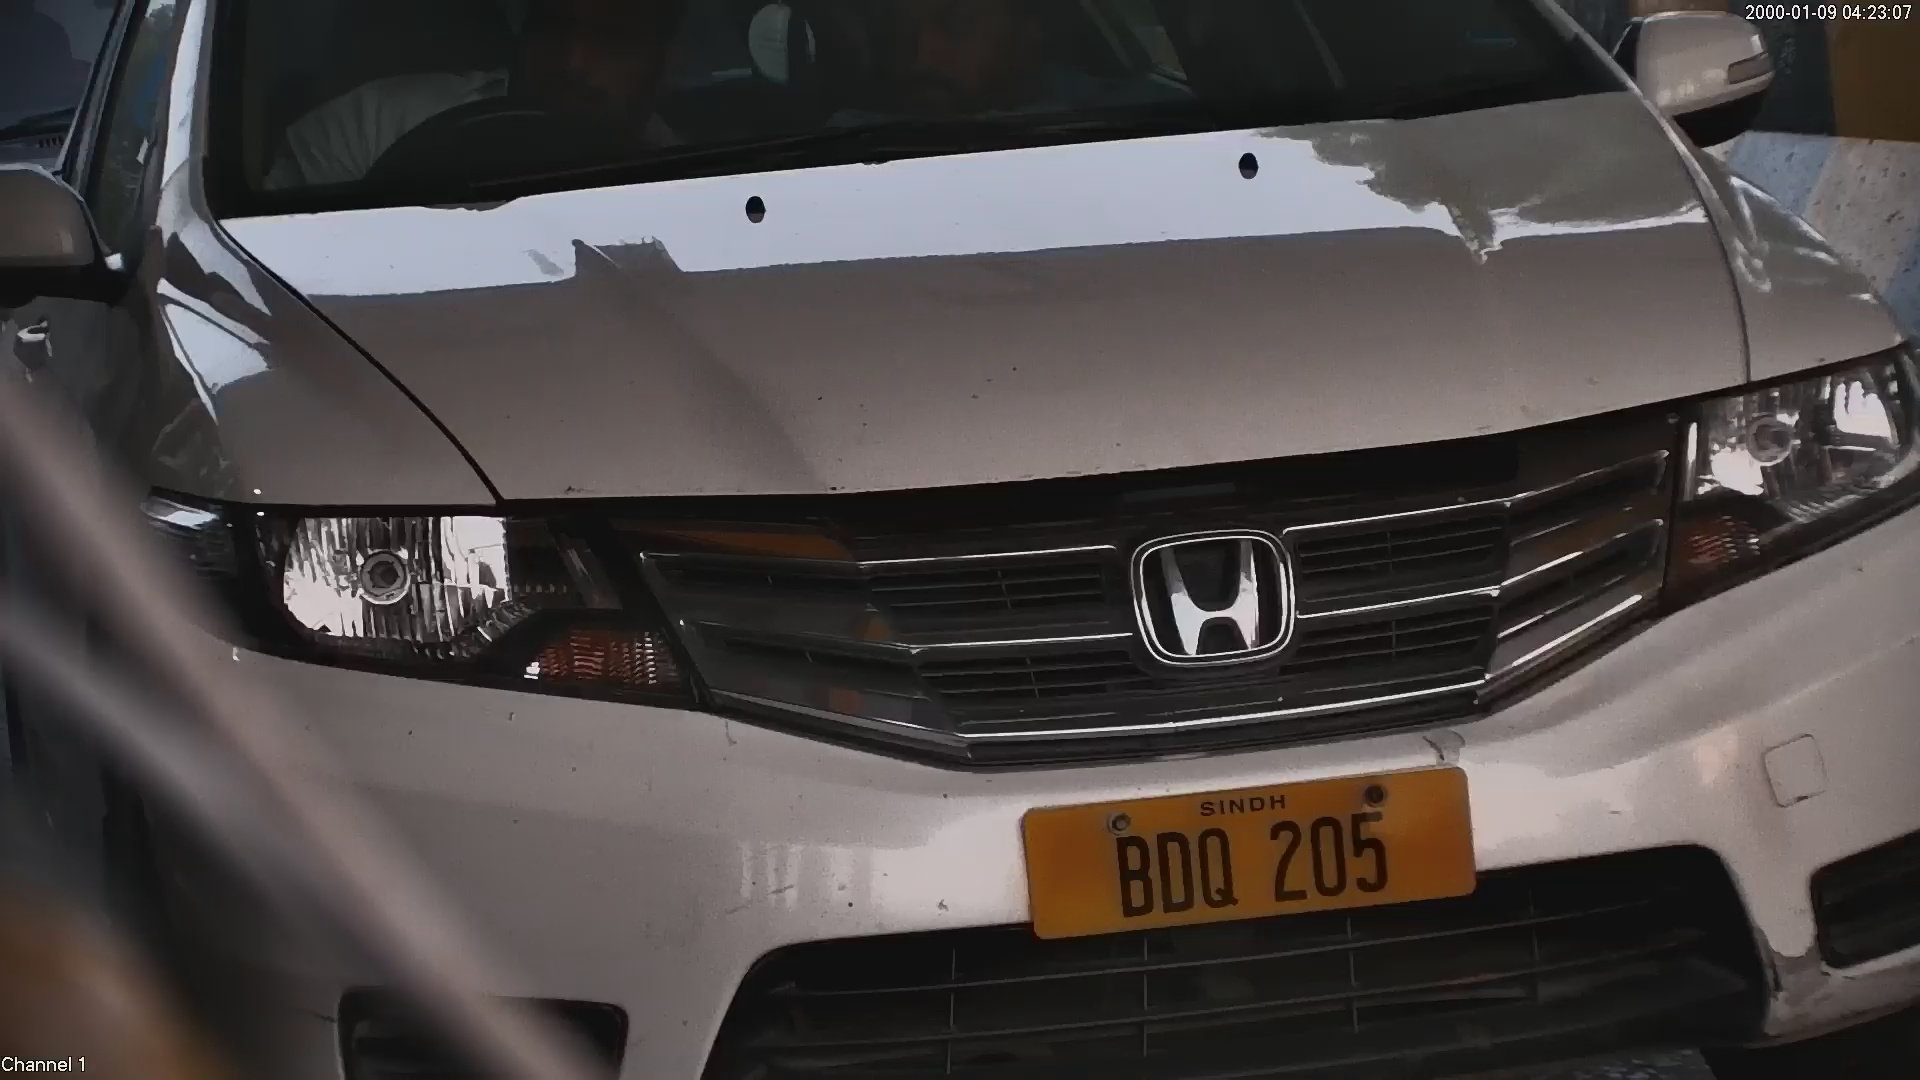Number_Plate: (1000, 766, 1487, 927)
Undefined: (239, 509, 602, 690), (1691, 368, 1910, 566), (1121, 518, 1302, 668)
